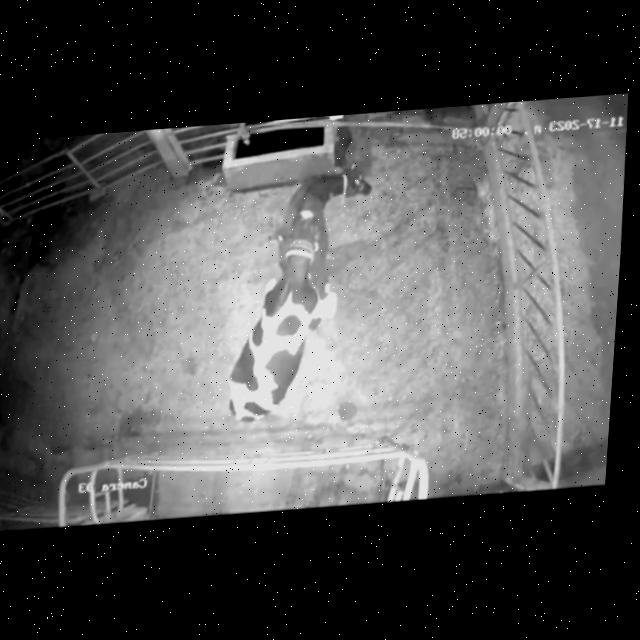ride: (208, 204, 358, 436)
stand: (258, 159, 389, 274)
